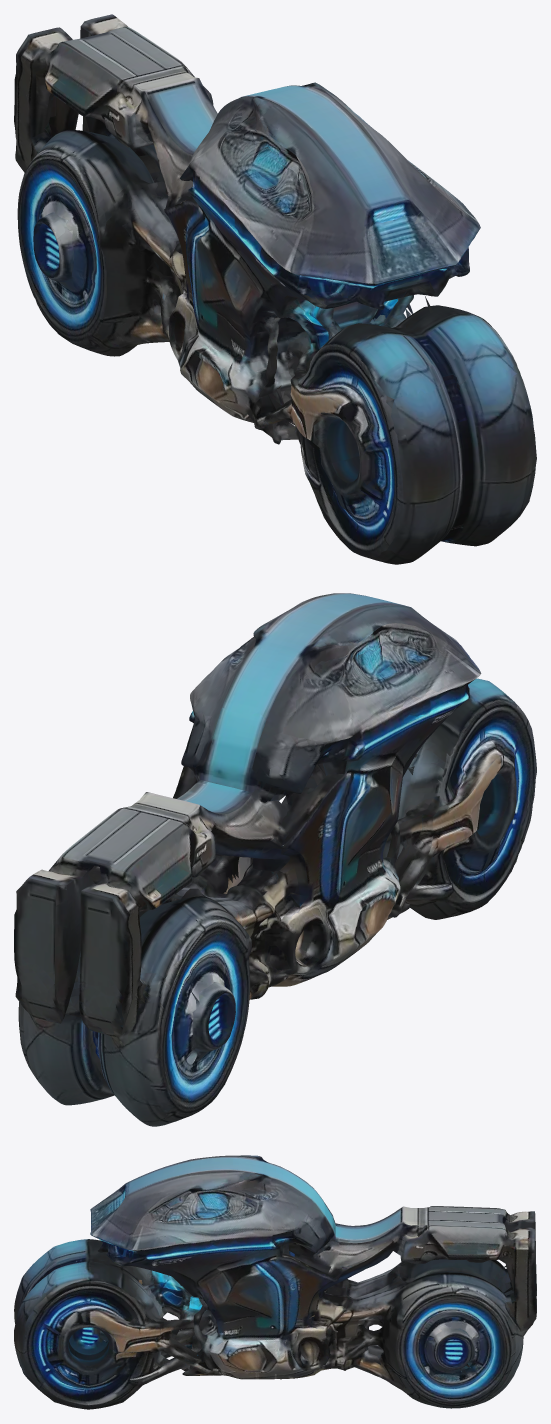
Rendered from motorcycle.glb.
3 views of the same model, one above another, from view 1: azimuth 30°, elevation 25°; view 2: azimuth 150°, elevation 25°; view 3: azimuth 270°, elevation 25° (orthographic). The views are drawn at different scales.
Parts seen in each view (by area): view 1: Object_5; view 2: Object_5; view 3: Object_5.
Boxes of the visible parts, left/top/right/bottom form: Object_5: left=14, top=14, right=536, bottom=564; Object_5: left=14, top=593, right=536, bottom=1126; Object_5: left=14, top=1155, right=536, bottom=1409.
Size of the model in its own units: 1.3 by 2.3 by 4.69.
Materials: 1 (1 with a texture image).
